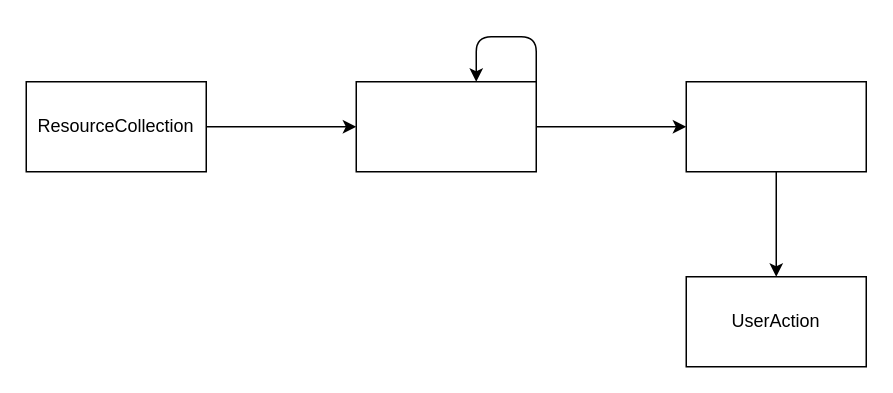
This 893x393 diagram has some shape labels left out. The centre of each missing label's shape, as x and y in pixels:
"Permissions" goes at pixel 775 126.
"Resource" goes at pixel 445 126.
